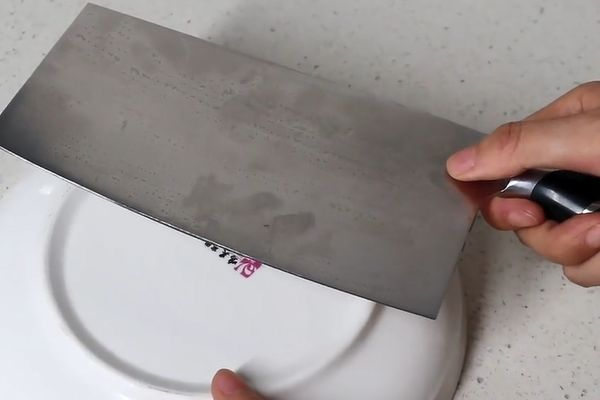knief: (17, 13, 511, 312)
